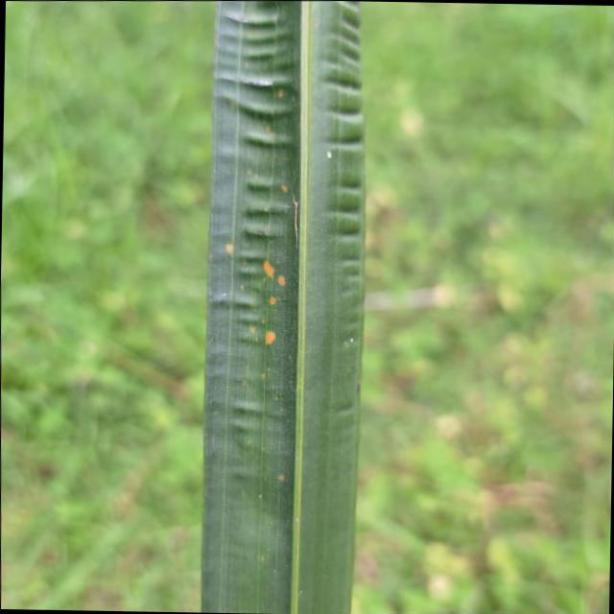Boron: (204, 0, 364, 614)
